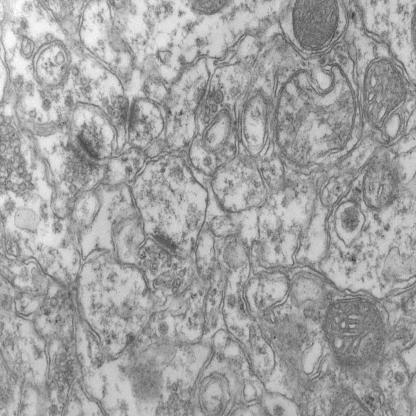mitochondria: (322, 297, 383, 370), (361, 56, 407, 134), (290, 0, 340, 54)
